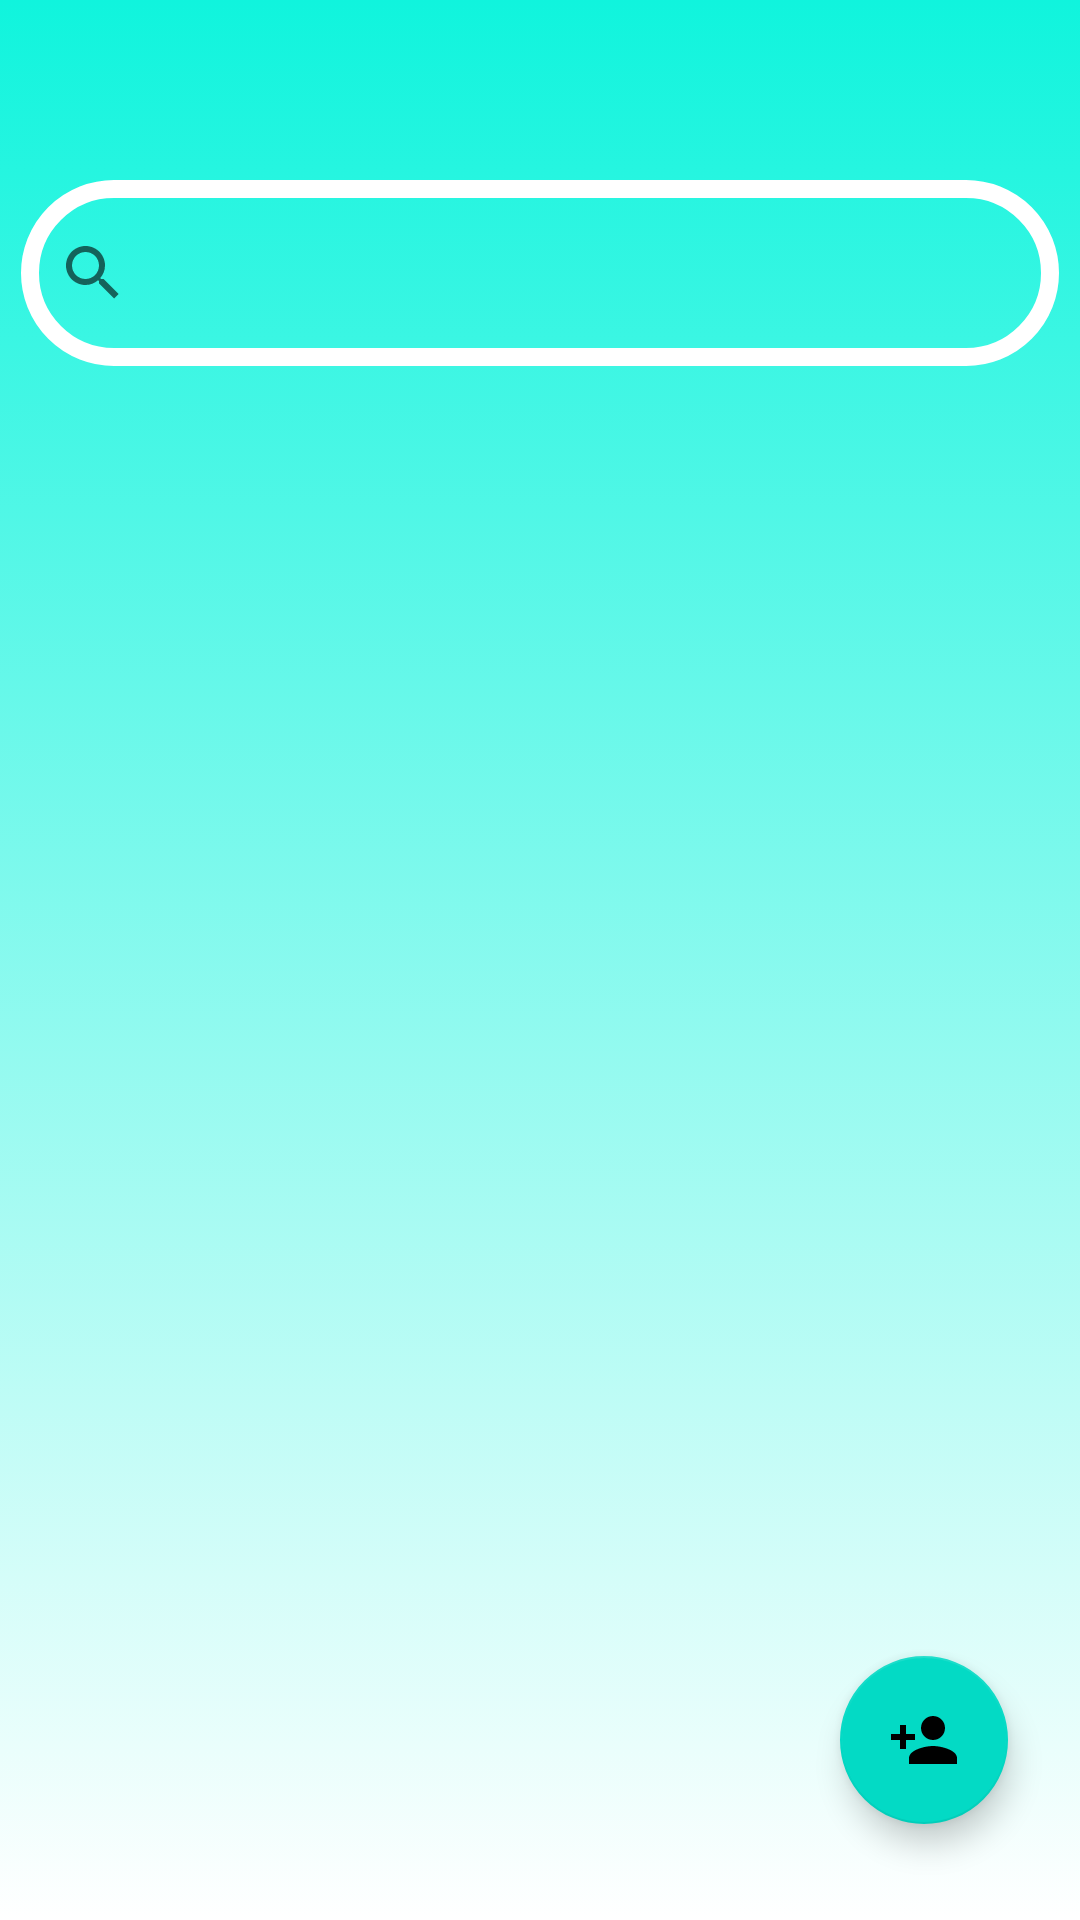

Where icons sit on this 1080 x 1920 app screen, as detection(x1, y1, x2, y2):
add: detection(840, 1656, 1008, 1824)
